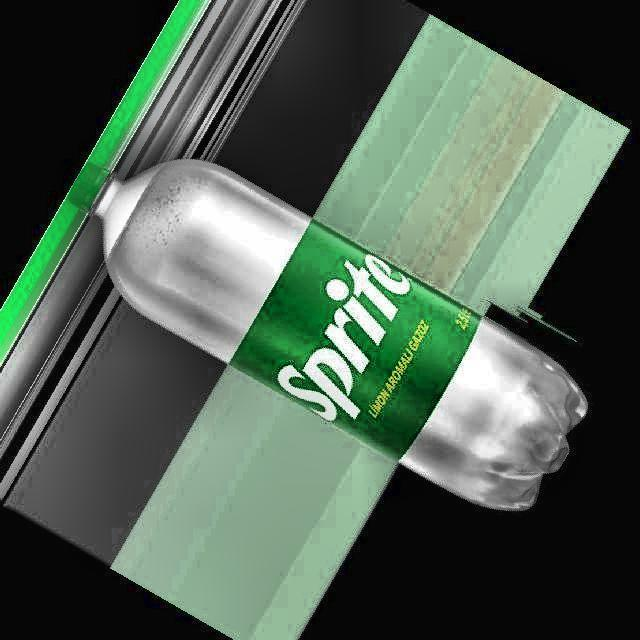plastic: (68, 159, 586, 509)
